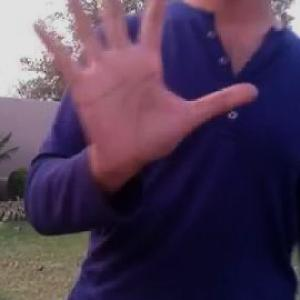follow_hand: (27, 0, 260, 182)
